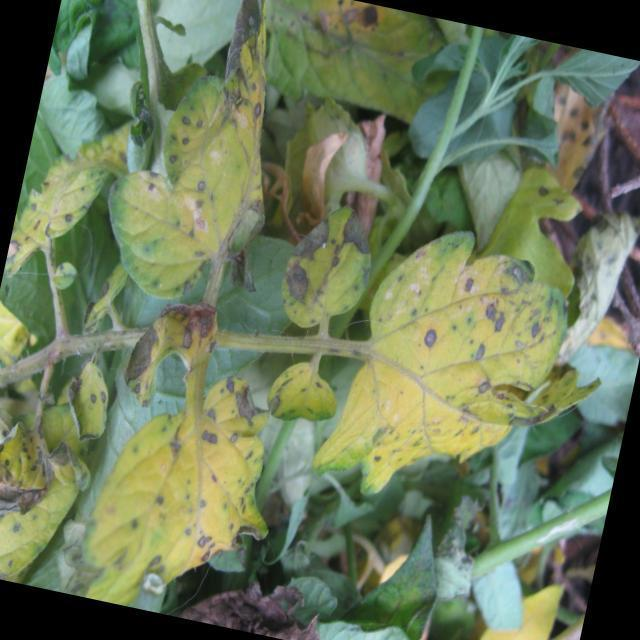Septoria: (362, 232, 574, 483), (114, 374, 260, 567), (109, 87, 255, 274), (15, 164, 97, 233)
